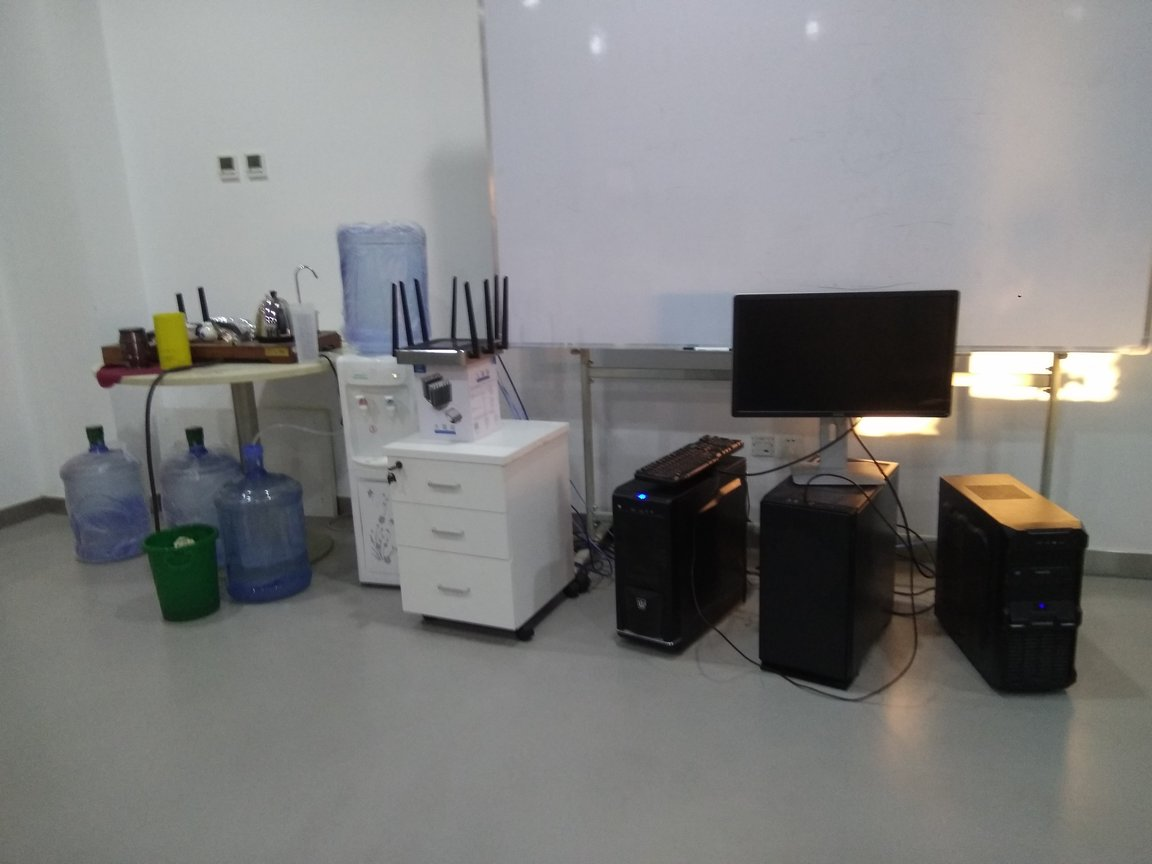computer: (761, 458, 906, 698), (938, 471, 1084, 704), (608, 454, 752, 664)
drawer chest: (388, 417, 588, 660)
monitor: (725, 285, 976, 498)
scuttlebutt: (332, 213, 436, 370), (218, 444, 313, 605), (61, 423, 154, 570), (162, 427, 252, 574)
water dispenser: (327, 347, 474, 607)
